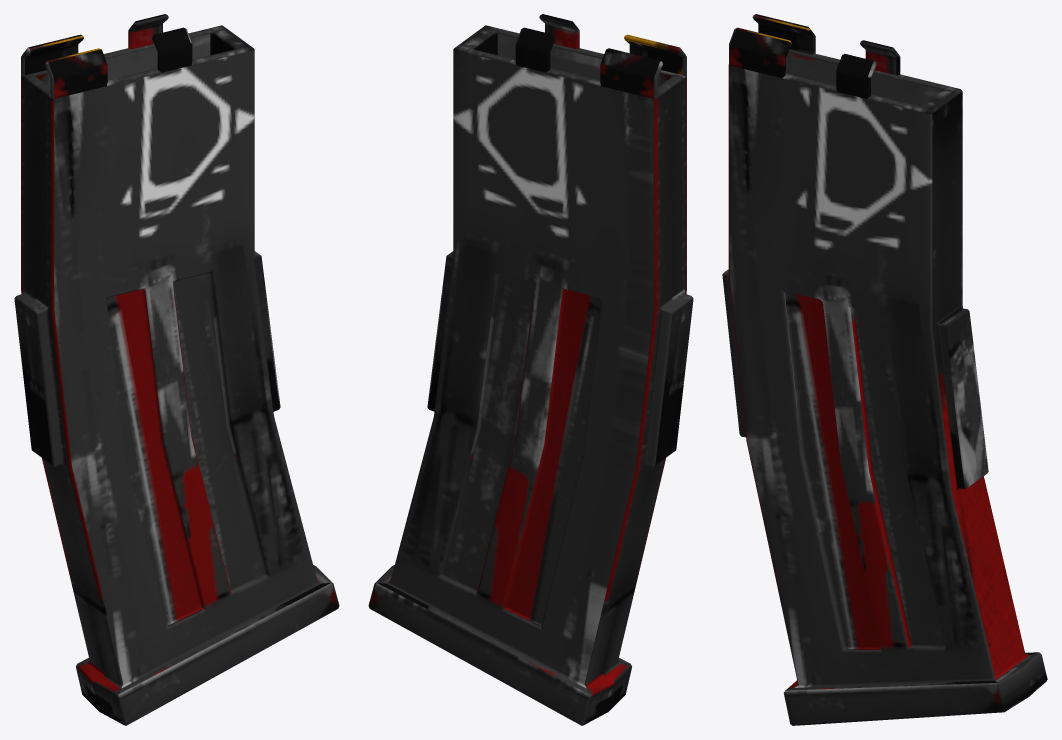
Rendered from WPN_DKAR_Mag.fbx.
The picture shows the model from 3 angles, left to right: view 1: azimuth 30°, elevation 25°; view 2: azimuth 150°, elevation 25°; view 3: azimuth 330°, elevation 25°; orthographic projection.
Parts seen in each view (by area): view 1: Mag_drop; view 2: Mag_drop; view 3: Mag_drop.
Part boxes in pixels (box(x1,y1,x2,y2)): Mag_drop: box(14, 14, 339, 725); Mag_drop: box(368, 14, 693, 725); Mag_drop: box(722, 14, 1047, 725).
Size of the model in its own units: 7.9 by 2.02 by 17.08.
Materials: 1 (1 with a texture image).
